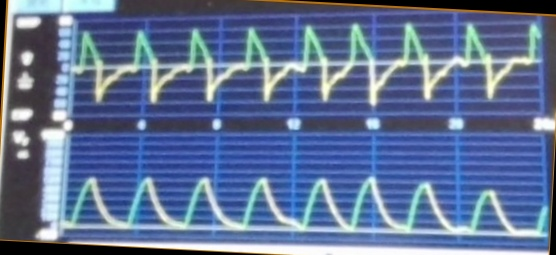Ineffective_effort Flow: (75, 19, 540, 105)
Ineffective_effort Volume: (68, 170, 547, 241)
